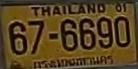0: (114, 16, 130, 46)
6: (8, 21, 26, 54), (60, 18, 76, 50), (79, 18, 95, 49)
7: (27, 20, 43, 53)
9: (96, 16, 112, 48)
BKK: (30, 55, 115, 69)
